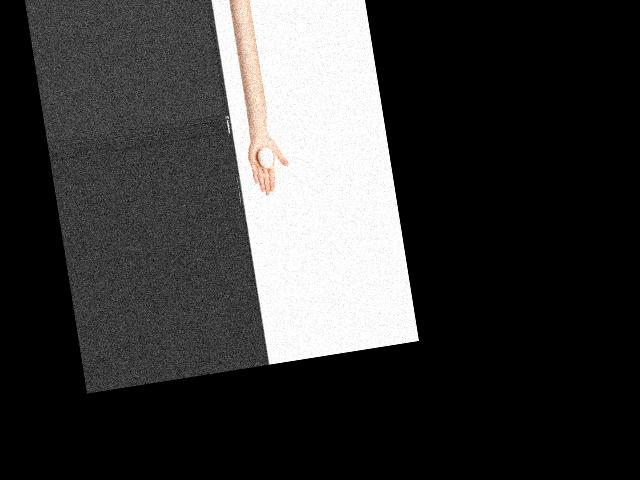egg: (256, 146, 274, 169)
